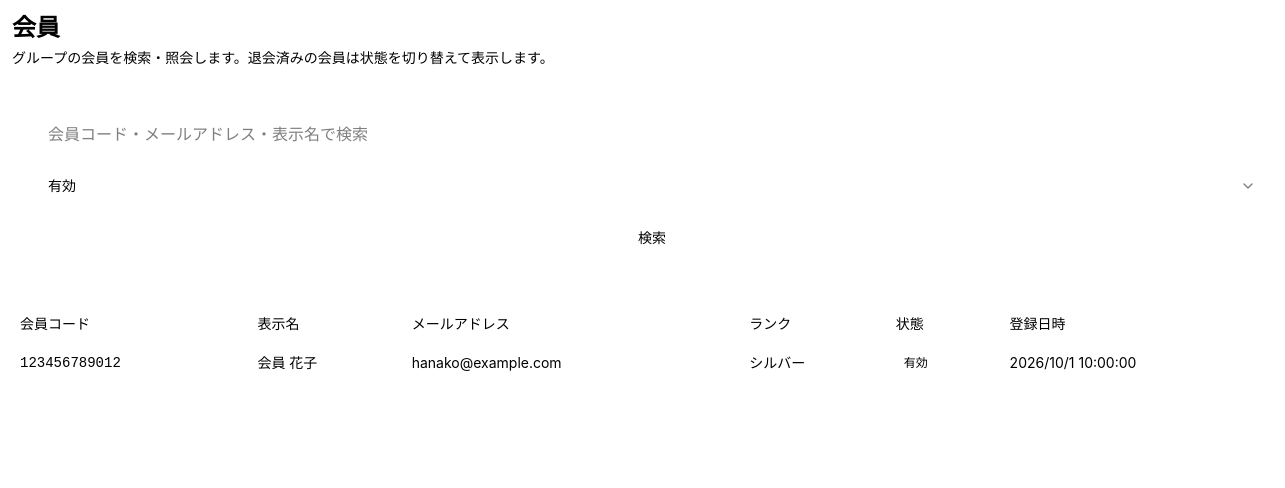
Test: 状態を「退会済み」に切り替えると検索ボタンを待たずに取り直し、退会済みの行がそう名乗る
Expected: the text "会員 花子" is shown, 250,344 -> 404,381
Click the dropdown named "状態" at (62, 186), box 36,168 -> 1268,204
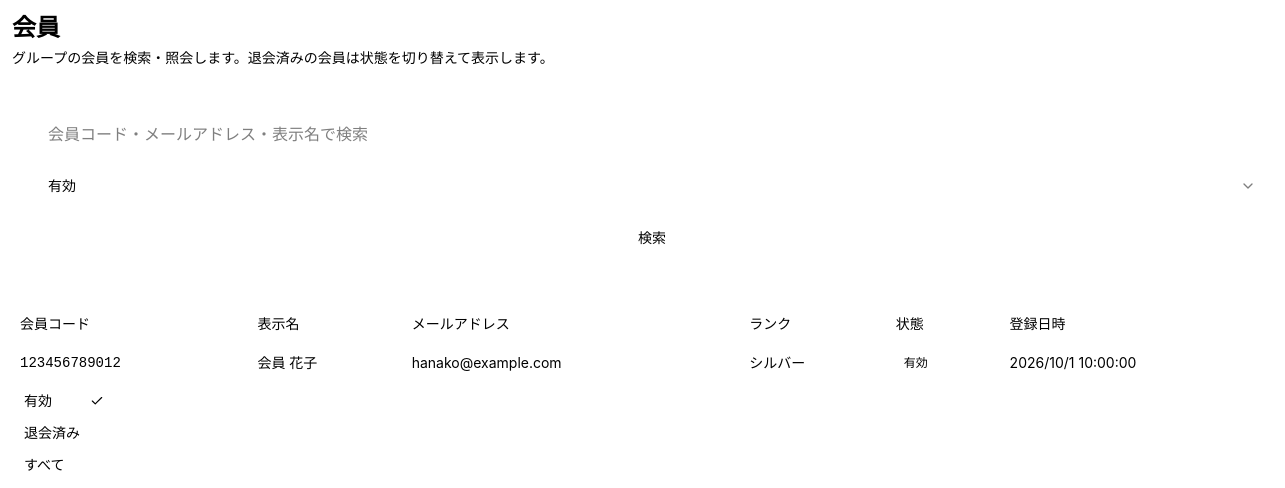
Click the option "退会済み" at (52, 432), box 24,424 -> 80,441
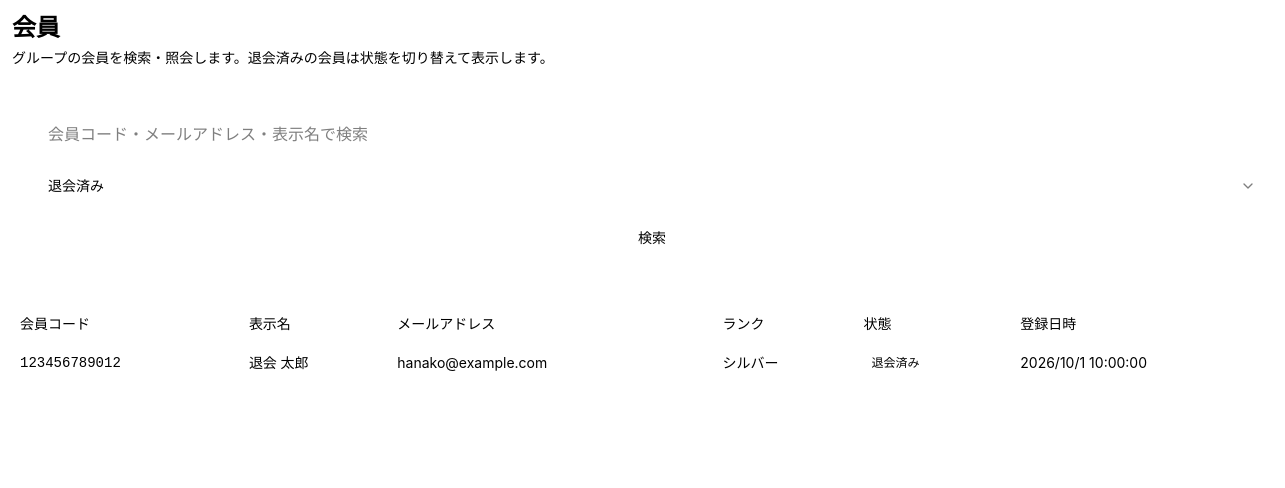
Expected: the text "退会 太郎" is shown, 241,344 -> 389,381
Expected: the text "退会済み" in the row of "123456789012" is shown, 872,355 -> 920,370
